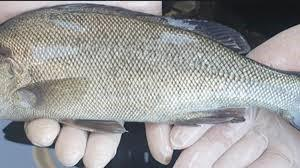Silver Perch: (0, 2, 300, 131)
